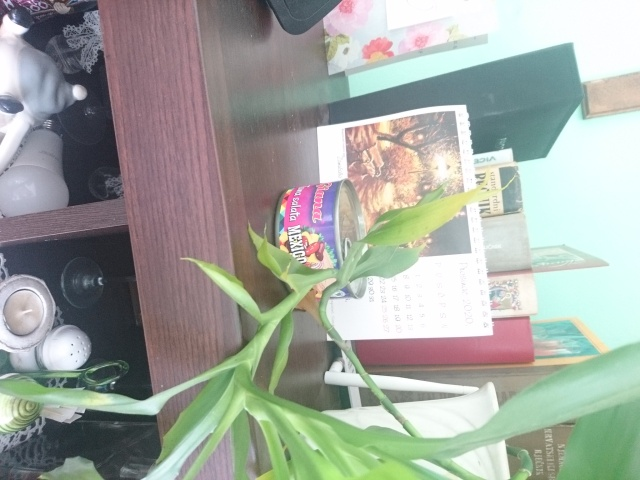Giana Tuna Salad Mexico 185g: (270, 176, 371, 302)
